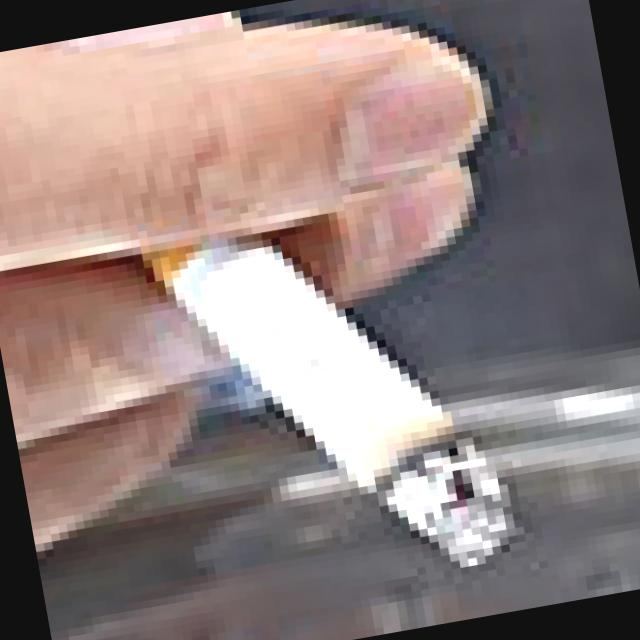cigarette: (97, 90, 540, 640)
